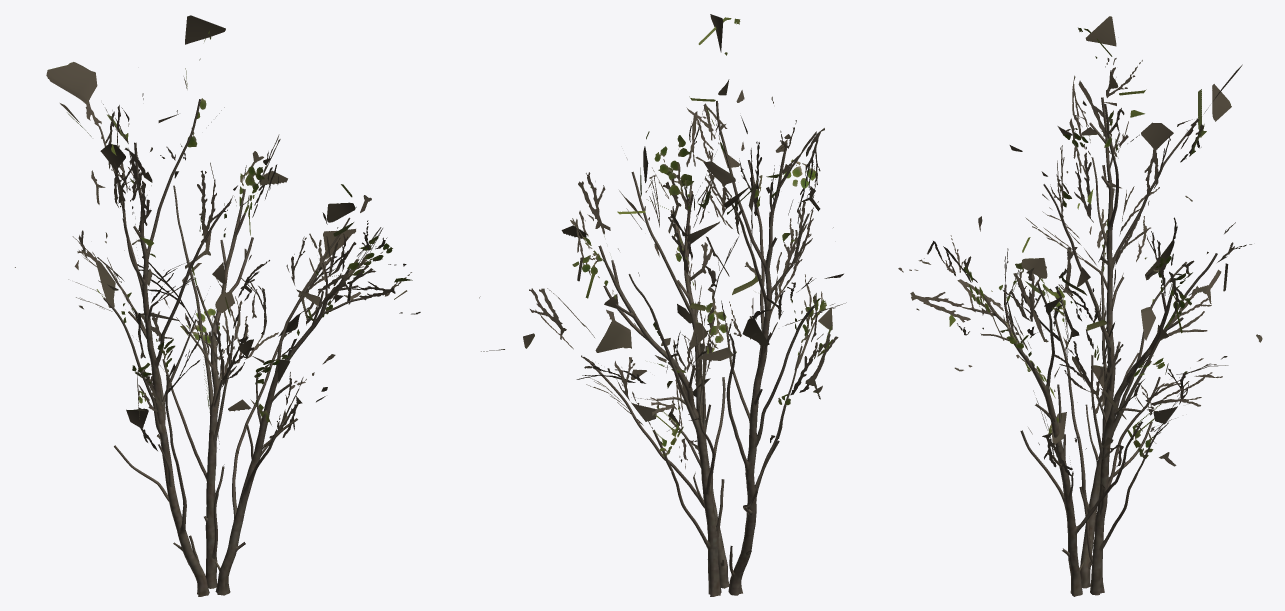
The model's file is SM_BlackAlder_Forest_09_PP_LOD1.gltf.
3 renders of one model, left to right at view 1: azimuth 30°, elevation 25°; view 2: azimuth 150°, elevation 25°; view 3: azimuth 270°, elevation 25°, orthographic. The views are drawn at different scales.
Visible parts, largest first — view 1: SM_BlackAlder_Forest_09_PP; view 2: SM_BlackAlder_Forest_09_PP; view 3: SM_BlackAlder_Forest_09_PP.
Boxes of the visible parts, box(x1,y1,x2,y2) form: SM_BlackAlder_Forest_09_PP: box(15, 15, 420, 596); SM_BlackAlder_Forest_09_PP: box(479, 14, 846, 596); SM_BlackAlder_Forest_09_PP: box(898, 16, 1262, 596).
Bounding box in the file's own units: 3.87 × 6.01 × 3.55.
2 materials, 2 textured.
